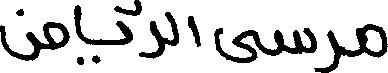X: (0, 4, 39, 65), (214, 23, 260, 67), (275, 23, 316, 72), (140, 0, 162, 63), (358, 19, 387, 62), (318, 25, 339, 72), (44, 17, 68, 54), (164, 7, 178, 54), (119, 2, 132, 49), (75, 0, 82, 69), (188, 11, 199, 51)
